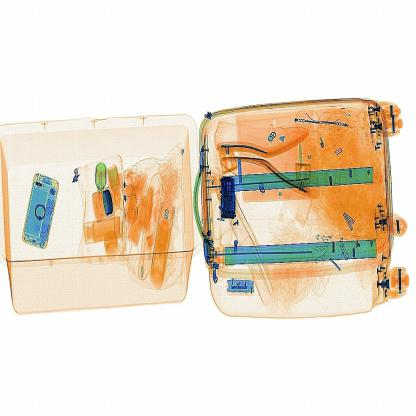scissors: (203, 160, 240, 228)
